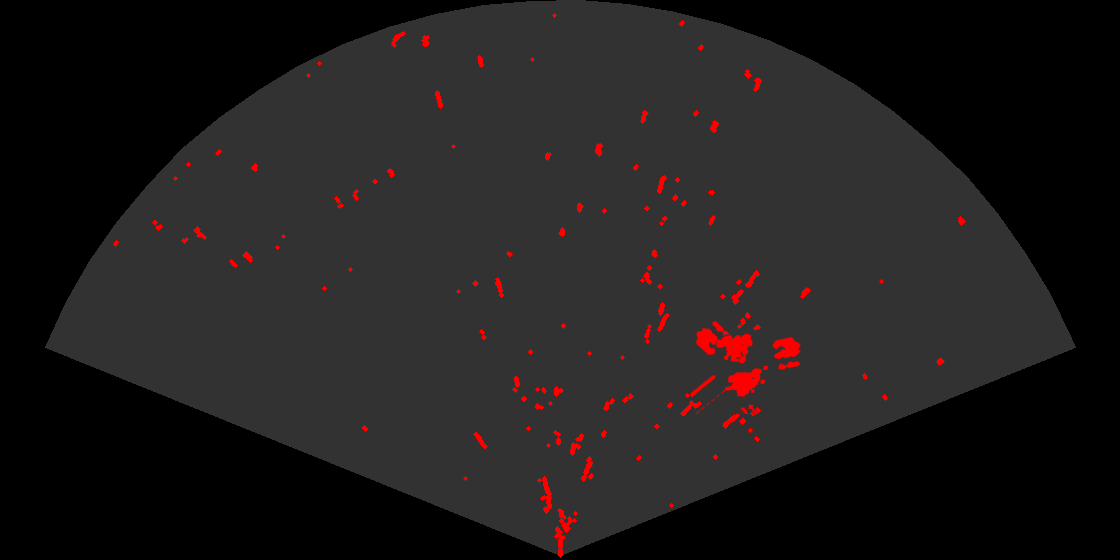ball: (695, 319, 731, 357), (770, 335, 802, 371)
cage: (691, 332, 770, 414)
